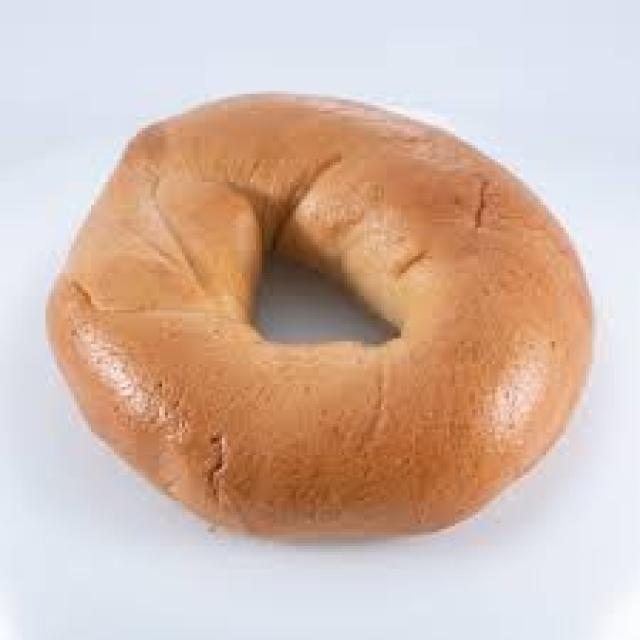Bagel: (50, 95, 590, 536)
